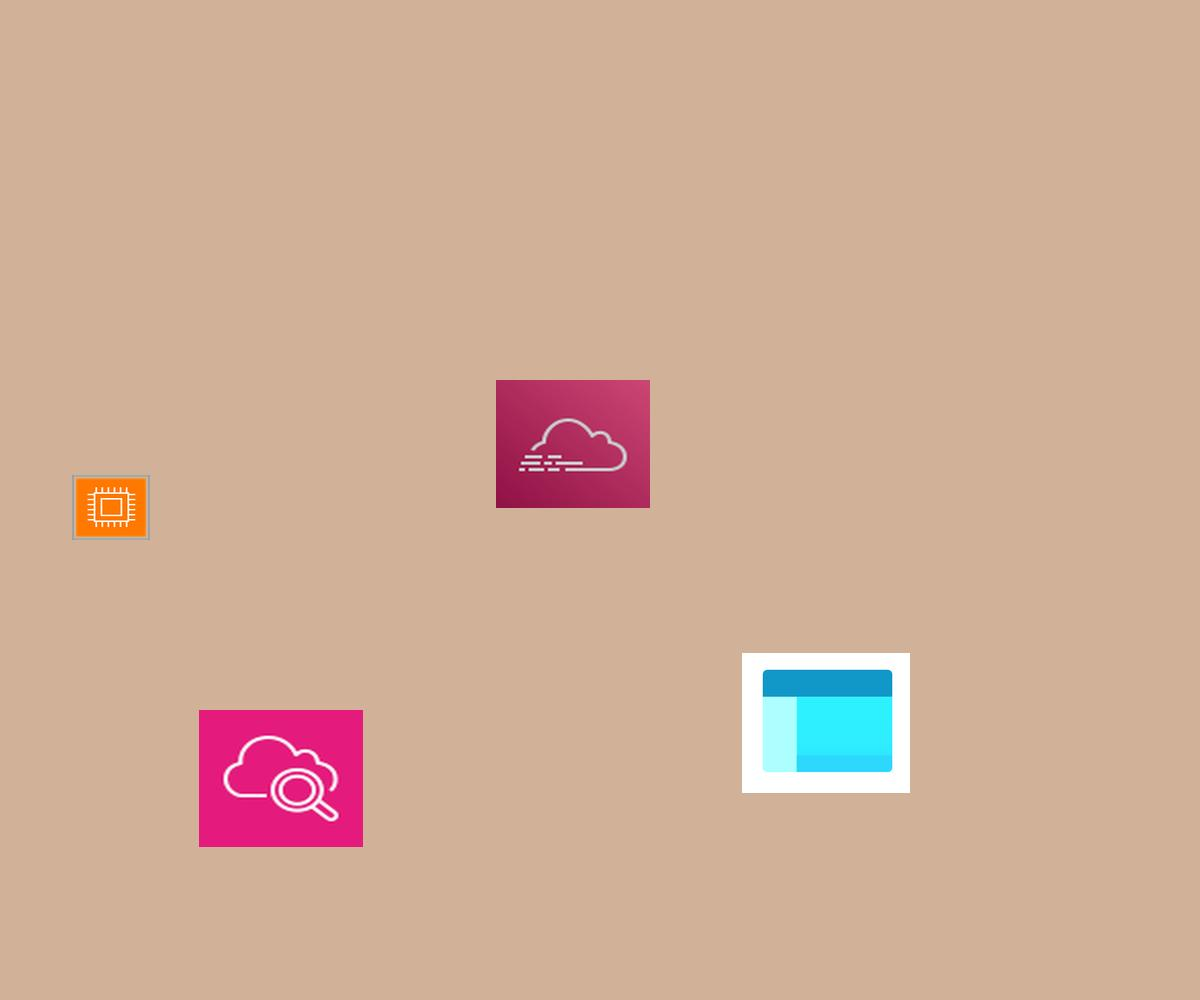AWS-Category_Compute: (72, 475, 150, 540)
AWS-CloudTrail: (496, 380, 650, 508)
AWS-CloudWatch: (199, 710, 363, 847)
Azure_management-portal: (742, 653, 910, 793)
